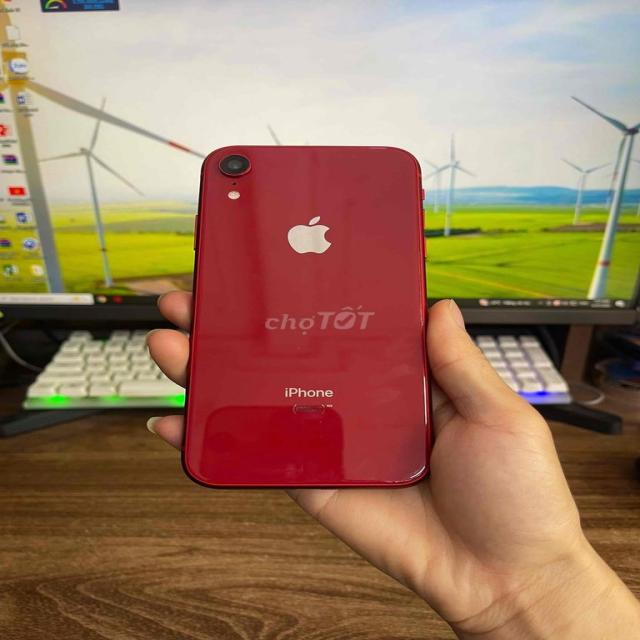gen_x_xs: (188, 143, 426, 495)
scratch: (382, 470, 418, 488)
